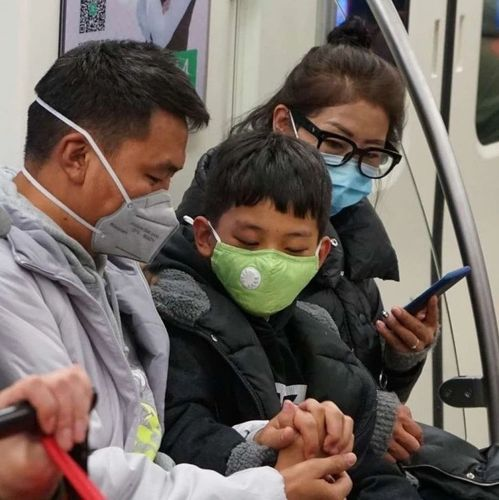mask: (213, 184, 324, 317)
